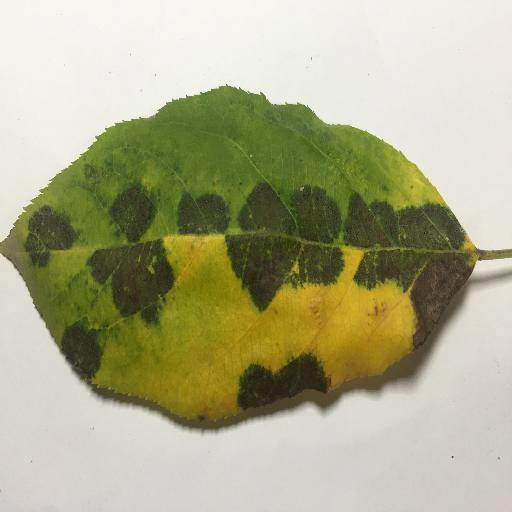Brown_Spot: (412, 252, 456, 345), (230, 362, 325, 399), (235, 251, 291, 312), (128, 258, 175, 322), (365, 249, 396, 292), (354, 218, 388, 247)
